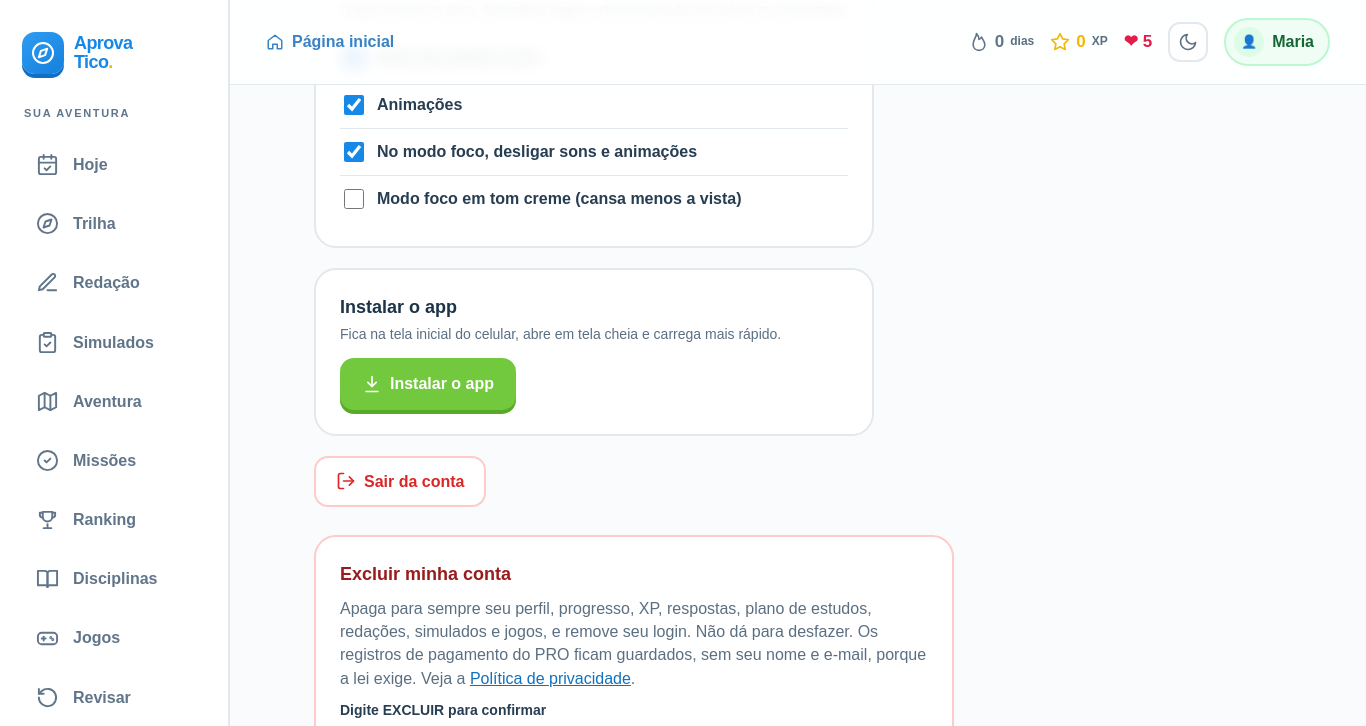
Scenario: instalar o app (Perfil) › Android/Chrome: botão "Instalar o app" abre o pedido do navegador
The width and height of the screenshot is (1366, 726).
(page scrolled)
Click the button "Instalar o app". click: [428, 384]
box: [340, 358, 516, 410]
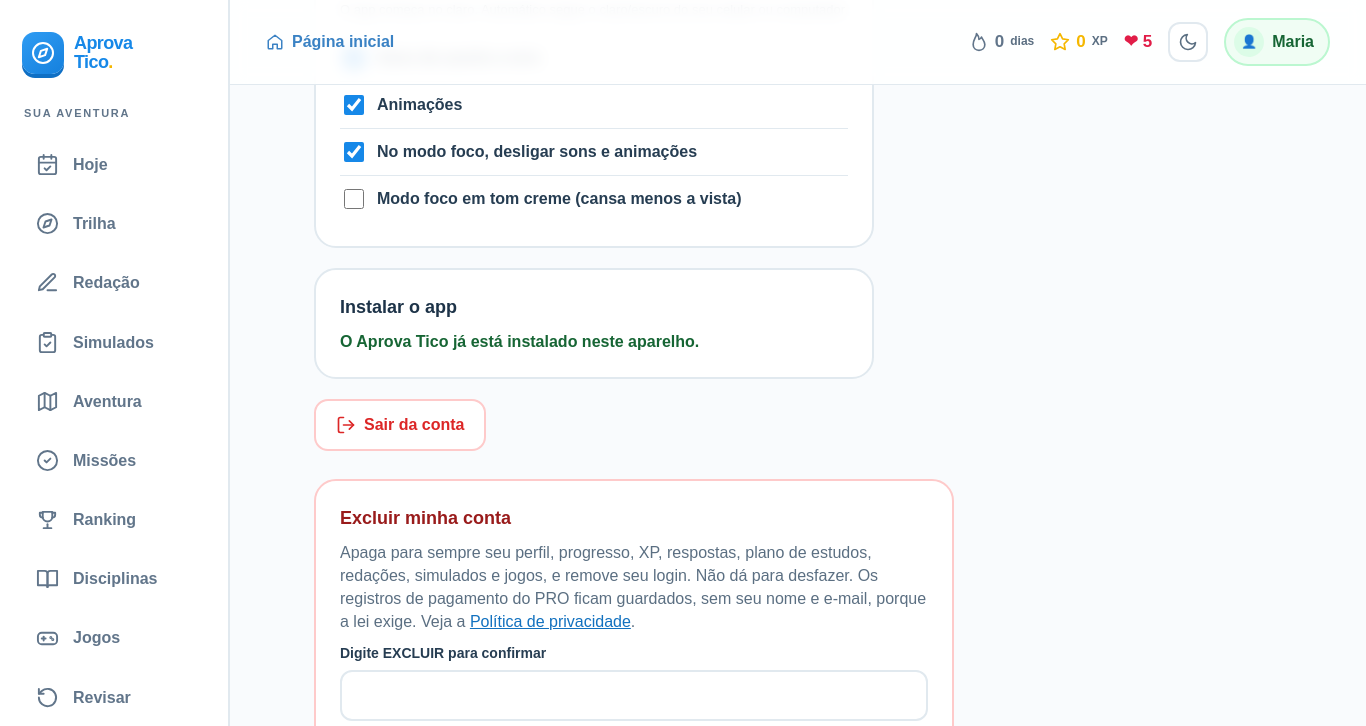
expect the text "O Aprova Tico já está instalado neste aparelho." is shown: met, box [340, 333, 699, 350]
